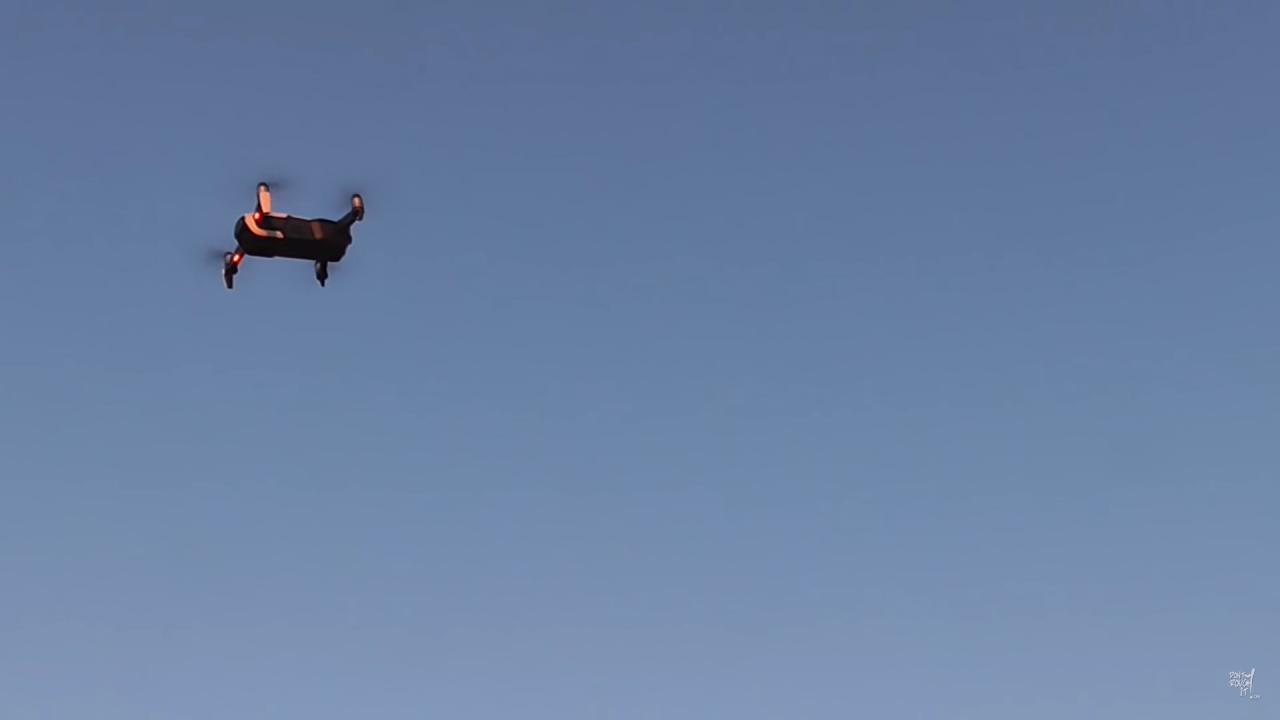Drone: (188, 161, 388, 307)
